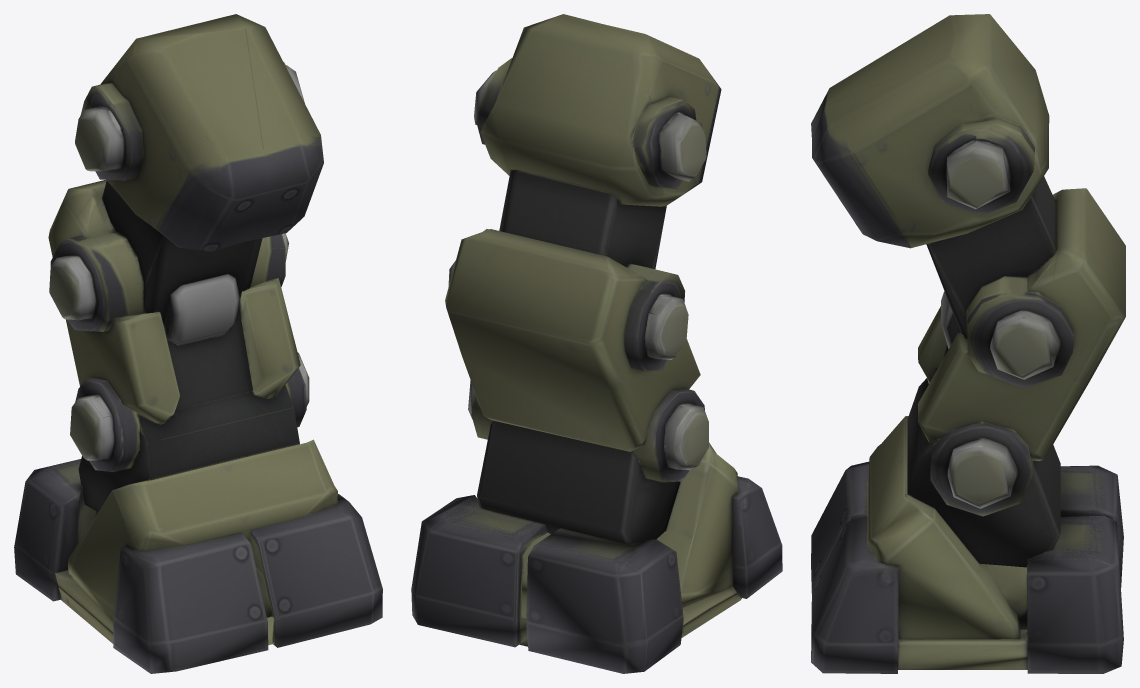
Rendered from Mech_Leg.glb.
3 renders of one model, left to right at view 1: azimuth 30°, elevation 25°; view 2: azimuth 150°, elevation 25°; view 3: azimuth 270°, elevation 25°, orthographic. The views are drawn at different scales.
Size of the model in its own units: 0.4106 by 0.9512 by 0.4648.
1 material, 1 textured.
